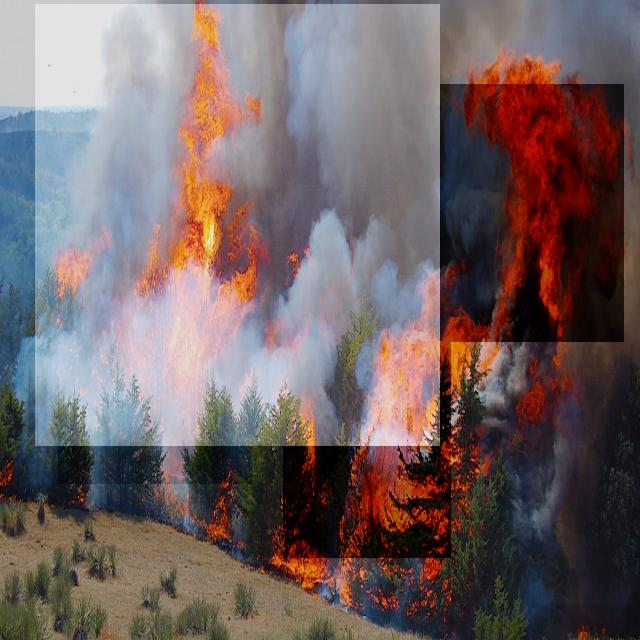Fire: (283, 84, 624, 558), (58, 44, 252, 484)
Smoke: (35, 4, 440, 446), (451, 342, 630, 604)
